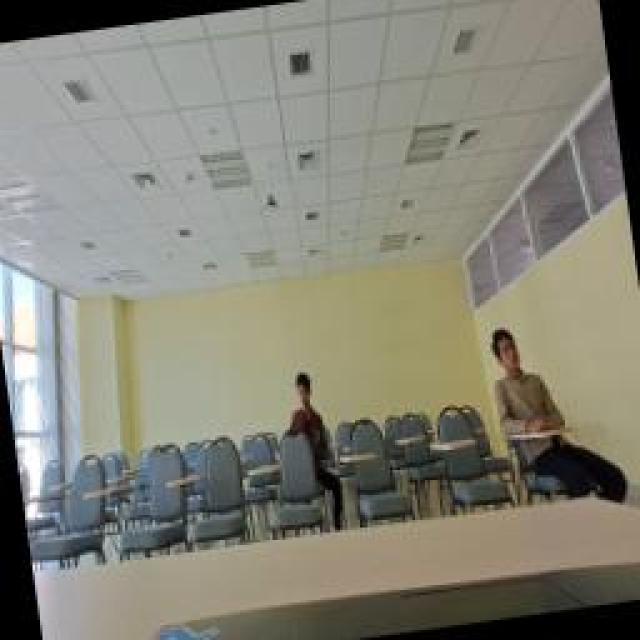study: (485, 320, 567, 438), (277, 365, 325, 440)
